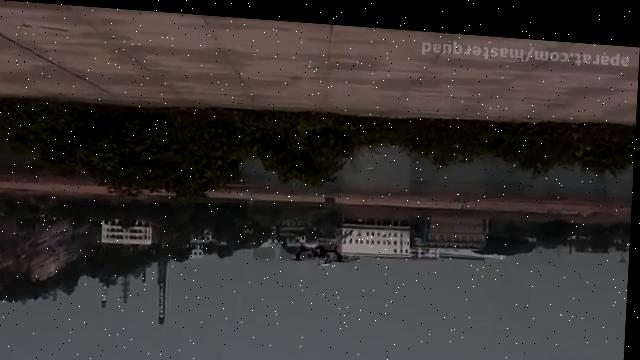drone: (289, 234, 353, 266)
